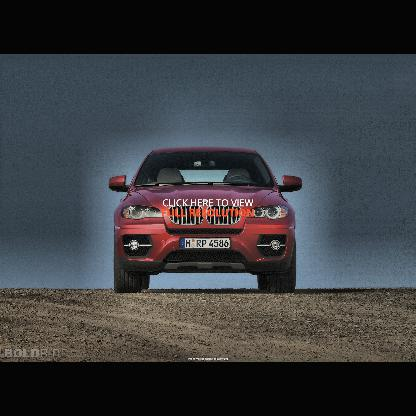BMW X6 SUV 2012: (109, 145, 304, 293)
